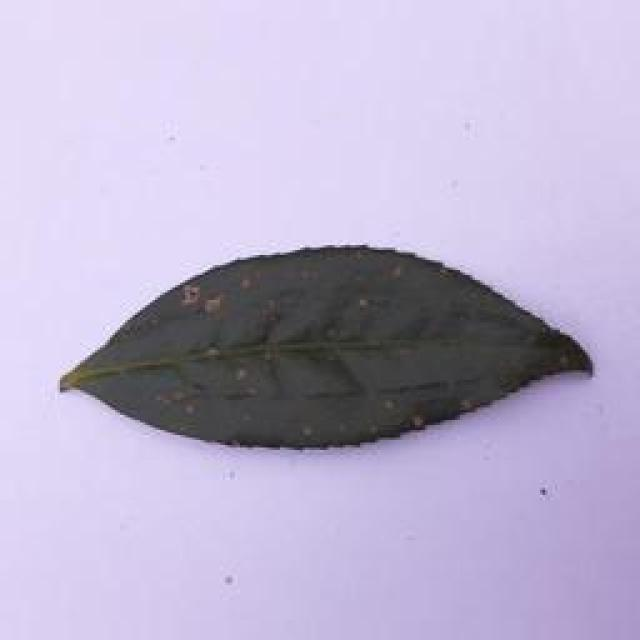Algal Leaf Spot: (53, 224, 611, 460)
